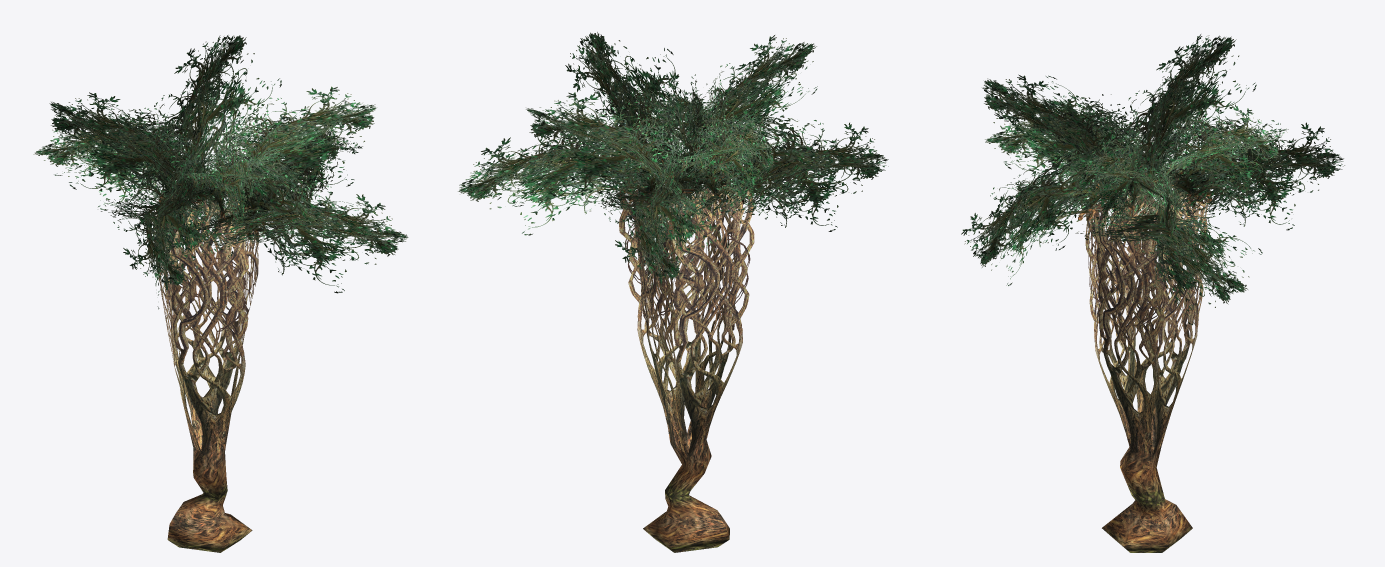
The model's file is decd_flutevine_l0.fbx.
3 renders of one model, left to right at view 1: azimuth 30°, elevation 25°; view 2: azimuth 150°, elevation 25°; view 3: azimuth 270°, elevation 25°, orthographic. The views are drawn at different scales.
Parts seen in each view (by area): view 1: mesh_node; view 2: mesh_node; view 3: mesh_node.
Part boxes in pixels (x1,y1,x2,y2): mesh_node: (33, 35, 408, 552); mesh_node: (458, 32, 888, 552); mesh_node: (961, 34, 1344, 552).
Bounding box in the file's own units: 12.99 × 16.63 × 13.65.
